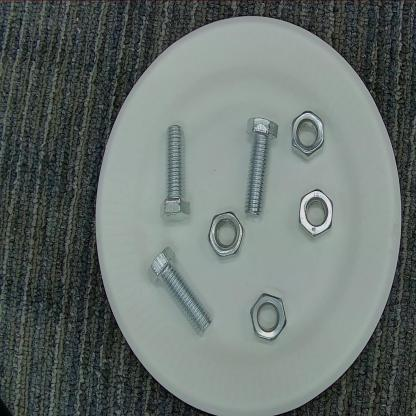FOD: (148, 242, 212, 342), (241, 110, 283, 219), (161, 118, 194, 226), (297, 181, 338, 244), (289, 107, 328, 162), (205, 211, 247, 262), (250, 289, 289, 342)
